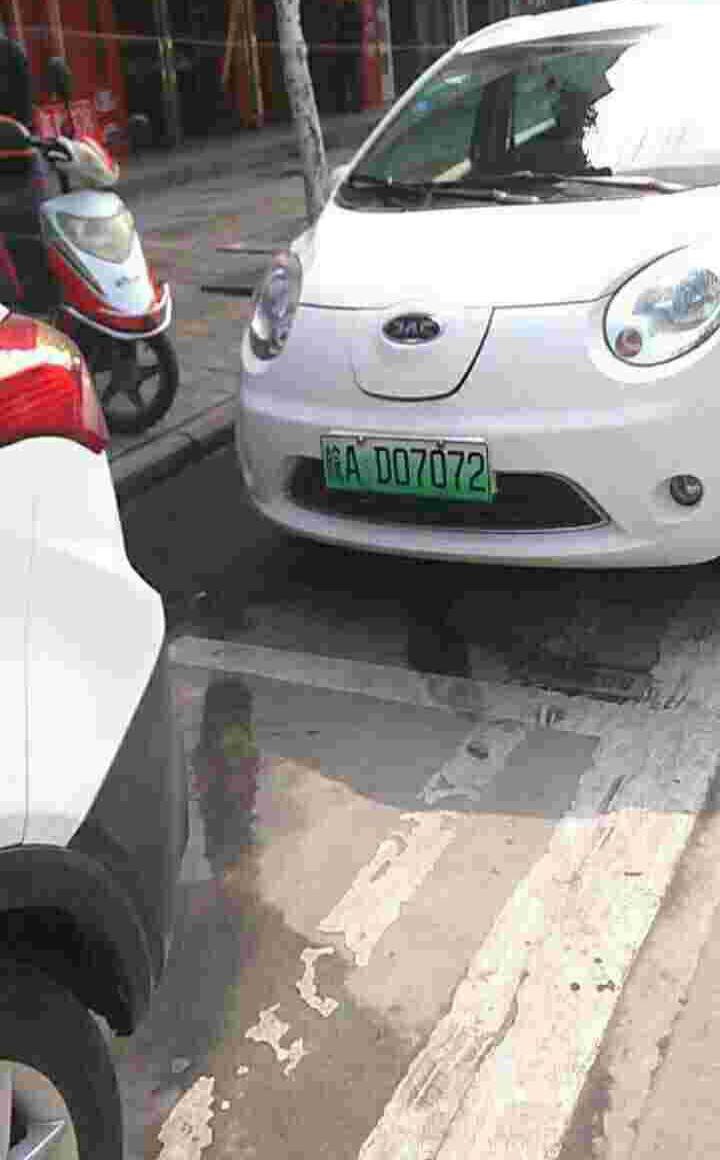car_green: (322, 437, 497, 501)
